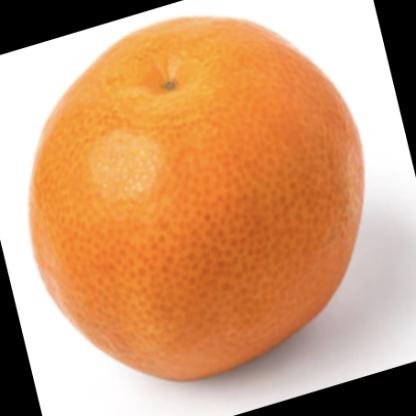fresh: (31, 16, 367, 381)
